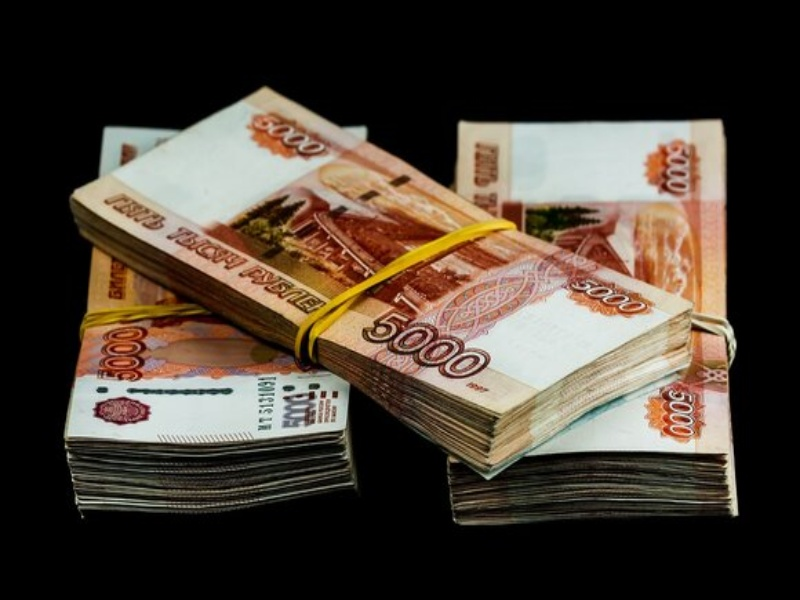cash: (73, 85, 693, 481), (445, 120, 740, 523), (62, 123, 364, 509)
